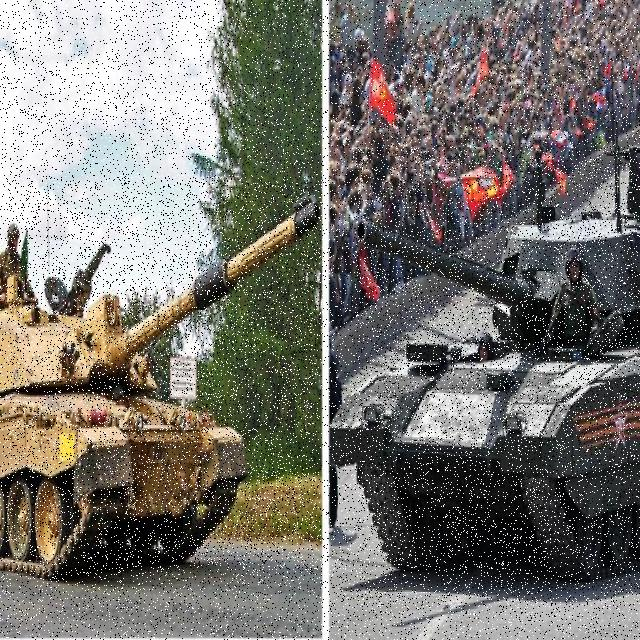MIL_MBT: (355, 148, 636, 607), (6, 178, 317, 575)
